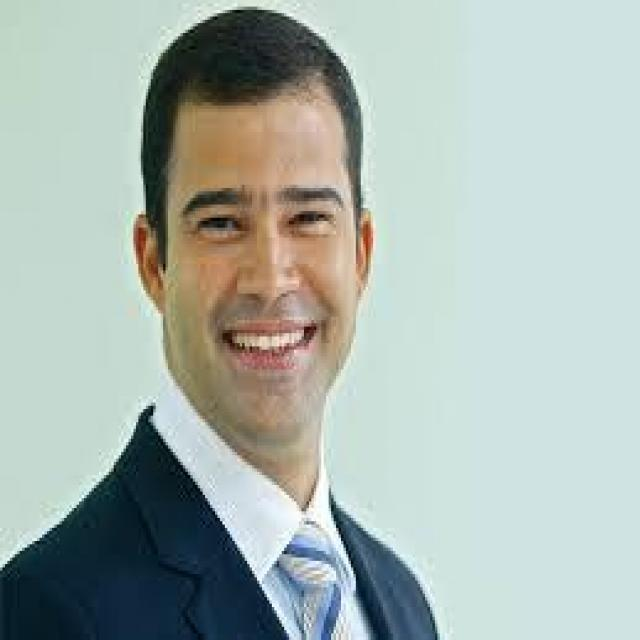person: (7, 0, 492, 637)
